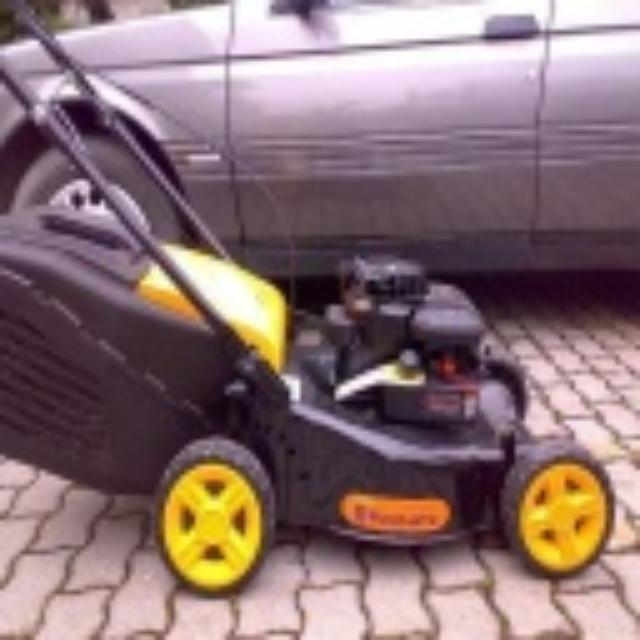Rotary-Mower: (1, 1, 616, 596)
